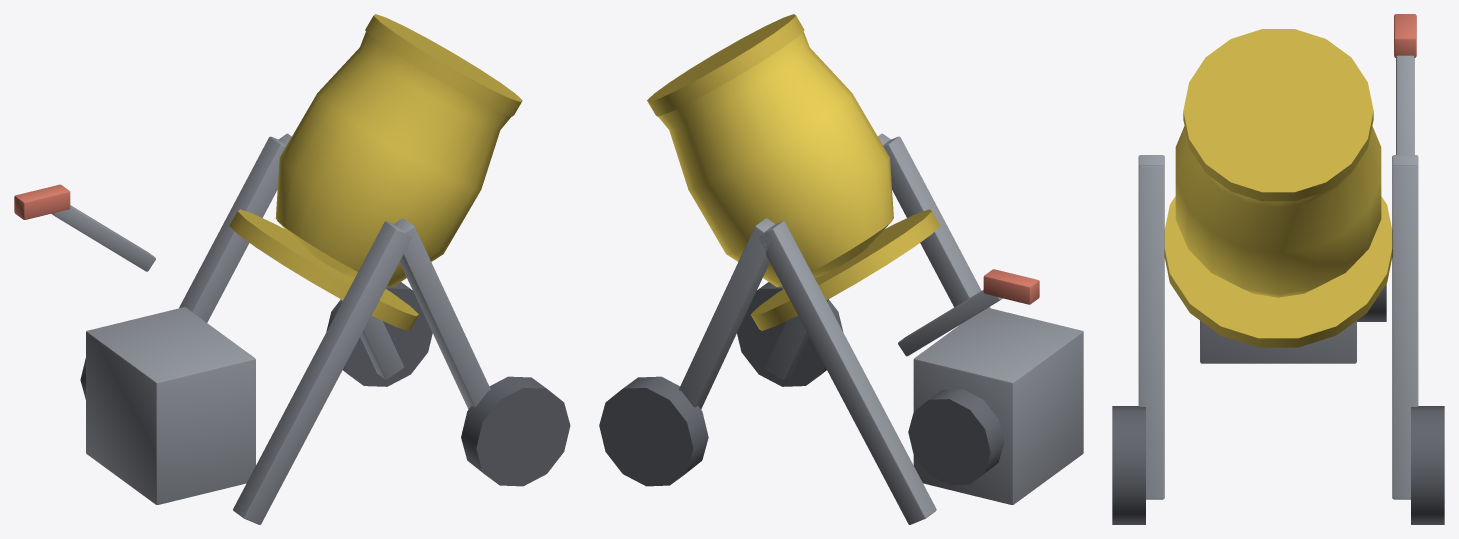
The model's file is th46_mischer.glb.
3 renders of one model, left to right at view 1: azimuth 30°, elevation 25°; view 2: azimuth 150°, elevation 25°; view 3: azimuth 270°, elevation 25°, orthographic. The views are drawn at different scales.
Visible parts, largest first — view 1: Trommel, Cube.004, Cube, Cylinder.006, Cube.002, Cube.001, Cylinder, Cylinder.003, Cylinder.007, Cube.005, Cube.003, Cube.006 (+1 smaller); view 2: Trommel, Cube.004, Cube.002, Cylinder.007, Cylinder.008, Cube.003, Cylinder, Cube, Cylinder.003, Cylinder.006, Cube.005, Cube.001 (+1 smaller); view 3: Cylinder, Trommel, Cylinder.003, Cube.001, Cube.003, Cylinder.006, Cylinder.007, Cube.004, Cylinder.004, Cube.005, Cylinder.005, Cube.006 (+1 smaller).
Boxes of the visible parts, bbox=[...] form: Trommel: bbox=[275, 31, 511, 286]; Cube.004: bbox=[86, 307, 255, 504]; Cube: bbox=[233, 221, 411, 524]; Cylinder.006: bbox=[461, 376, 570, 486]; Cube.002: bbox=[179, 136, 286, 322]; Cube.001: bbox=[394, 218, 490, 409]; Cylinder: bbox=[365, 14, 522, 116]; Cylinder.003: bbox=[229, 209, 418, 330]; Cylinder.007: bbox=[326, 282, 432, 386]; Cube.005: bbox=[51, 205, 155, 271]; Cube.003: bbox=[279, 133, 403, 379]; Cube.006: bbox=[14, 184, 70, 219]; Trommel: bbox=[658, 31, 893, 286]; Cube.004: bbox=[913, 308, 1083, 504]; Cube.002: bbox=[758, 221, 936, 524]; Cylinder.007: bbox=[599, 376, 708, 486]; Cylinder.008: bbox=[908, 389, 1004, 485]; Cube.003: bbox=[679, 218, 775, 409]; Cylinder: bbox=[647, 14, 804, 116]; Cube: bbox=[883, 136, 990, 308]; Cylinder.003: bbox=[751, 209, 940, 330]; Cylinder.006: bbox=[737, 282, 843, 386]; Cube.005: bbox=[898, 290, 1002, 356]; Cube.001: bbox=[765, 133, 890, 379]; Cylinder: bbox=[1183, 29, 1373, 201]; Trommel: bbox=[1175, 126, 1381, 297]; Cylinder.003: bbox=[1164, 196, 1392, 347]; Cube.001: bbox=[1138, 165, 1164, 499]; Cube.003: bbox=[1392, 165, 1418, 499]; Cylinder.006: bbox=[1112, 406, 1145, 524]; Cylinder.007: bbox=[1411, 406, 1444, 524]; Cube.004: bbox=[1200, 320, 1356, 363]; Cylinder.004: bbox=[1171, 214, 1385, 331]; Cube.005: bbox=[1396, 55, 1414, 154]; Cylinder.005: bbox=[1190, 232, 1378, 324]; Cube.006: bbox=[1394, 14, 1416, 57].
Size of the model in its own units: 1.47 by 1.36 by 0.89.
